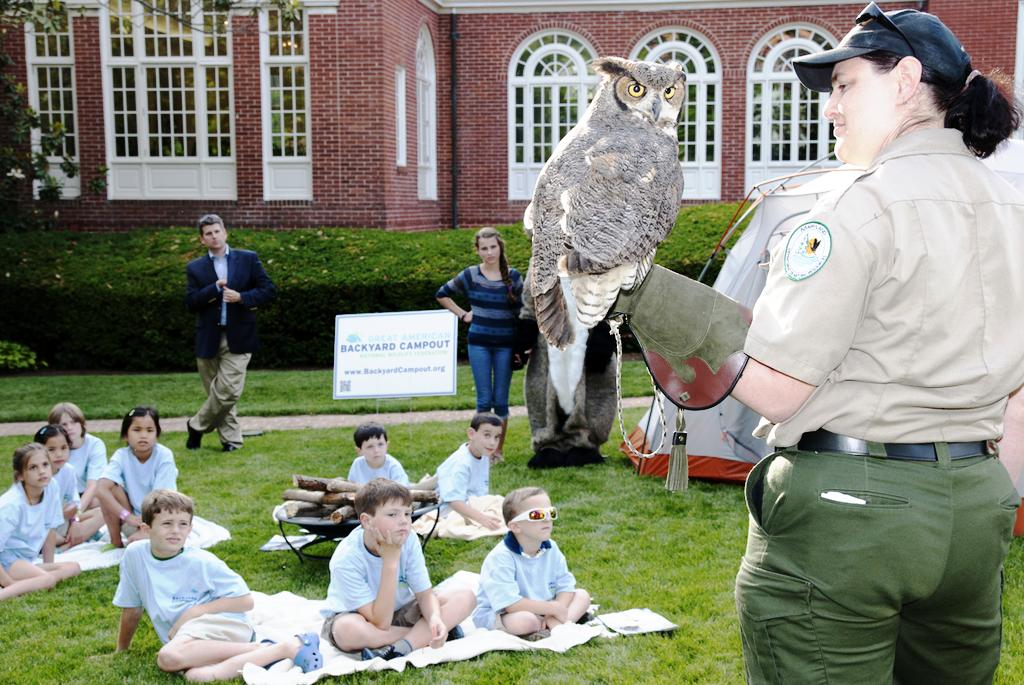Owl: (518, 61, 690, 354)
